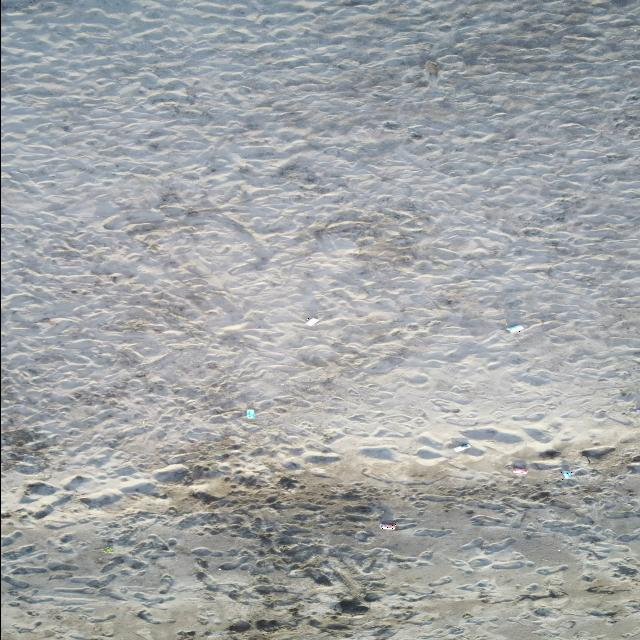Garbage: (507, 324, 524, 332), (453, 443, 470, 451), (512, 464, 527, 473), (380, 520, 395, 528), (304, 316, 318, 324), (562, 470, 572, 477), (246, 408, 253, 417), (102, 546, 112, 552)
